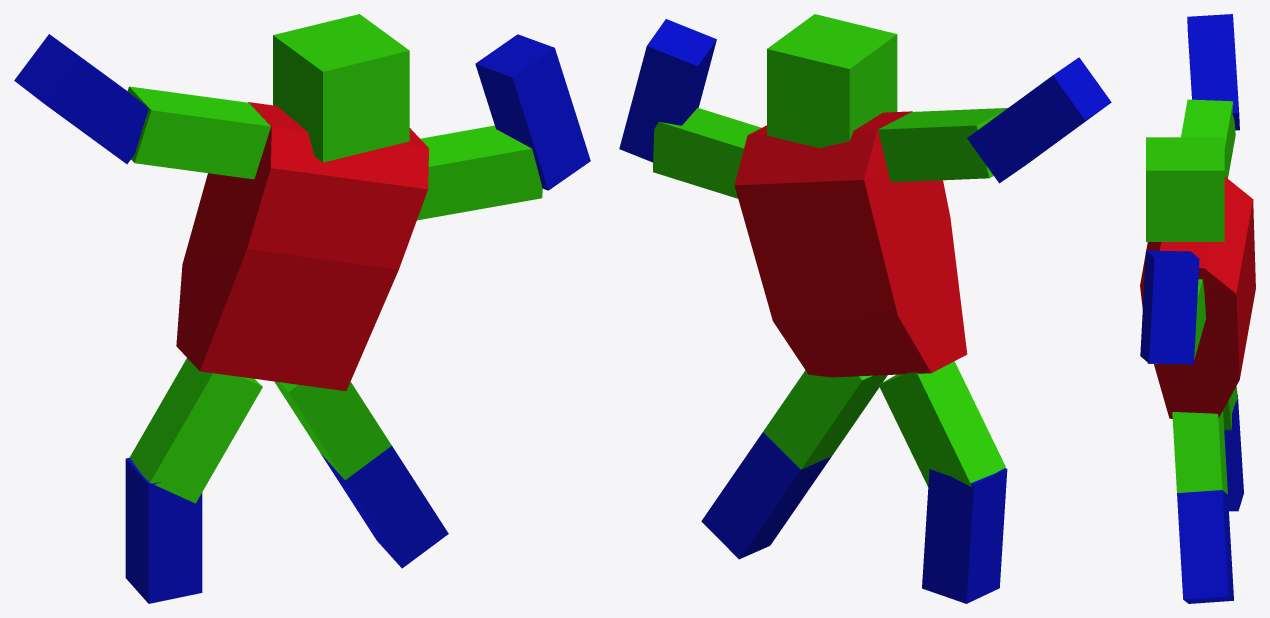
The model's file is testHuman3.fbx.
3 renders of one model, left to right at view 1: azimuth 30°, elevation 25°; view 2: azimuth 150°, elevation 25°; view 3: azimuth 270°, elevation 25°, orthographic. The views are drawn at different scales.
Parts seen in each view (by area): view 1: cube, cube009, cube.003, cube.005, cube.002, cube.007, cube.001, cube.006, cube.008, cube.004; view 2: cube, cube009, cube.007, cube.003, cube.006, cube.008, cube.005, cube.002, cube.004, cube.001; view 3: cube, cube009, cube.005, cube.008, cube.006, cube.004, cube.002, cube.007, cube.001, cube.003.
Boxes of the visible parts, bbox=[...] form: cube: bbox=[176, 102, 428, 391]; cube009: bbox=[273, 14, 409, 162]; cube.003: bbox=[129, 358, 262, 503]; cube.005: bbox=[475, 34, 590, 190]; cube.002: bbox=[127, 86, 270, 179]; cube.007: bbox=[125, 457, 202, 603]; cube.001: bbox=[417, 125, 542, 220]; cube.006: bbox=[14, 34, 148, 164]; cube.008: bbox=[320, 446, 448, 568]; cube.004: bbox=[274, 381, 391, 480]; cube: bbox=[734, 111, 967, 377]; cube009: bbox=[767, 14, 897, 148]; cube.007: bbox=[922, 468, 1007, 603]; cube.003: bbox=[878, 361, 1005, 486]; cube.006: bbox=[967, 57, 1111, 183]; cube.008: bbox=[701, 432, 831, 559]; cube.005: bbox=[619, 19, 716, 162]; cube.002: bbox=[878, 108, 1007, 182]; cube.004: bbox=[763, 370, 887, 469]; cube.001: bbox=[653, 108, 761, 198]; cube: bbox=[1140, 176, 1255, 418]; cube009: bbox=[1146, 137, 1224, 241]; cube.005: bbox=[1140, 250, 1199, 364]; cube.008: bbox=[1177, 490, 1233, 603]; cube.006: bbox=[1187, 14, 1239, 130]; cube.004: bbox=[1172, 411, 1227, 493]; cube.002: bbox=[1181, 99, 1235, 178]; cube.007: bbox=[1224, 395, 1243, 511]; cube.001: bbox=[1147, 279, 1205, 363]; cube.003: bbox=[1223, 386, 1237, 430].
Size of the model in its own units: 3.83 by 4.16 by 0.9382.
